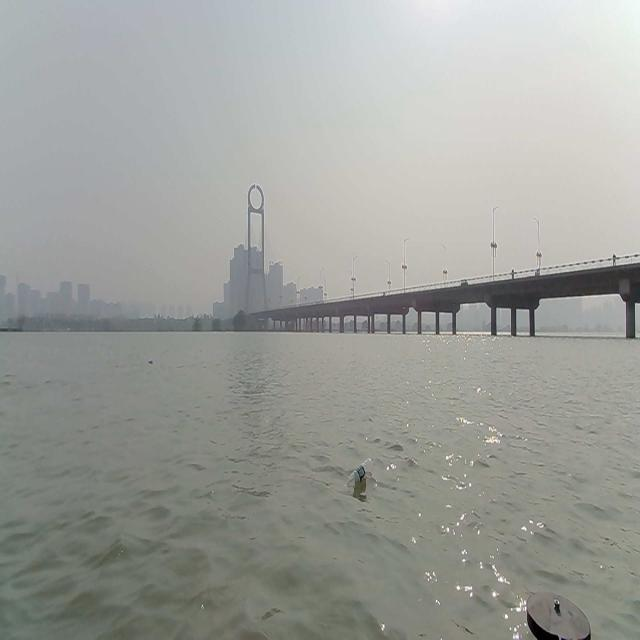bottle: (345, 456, 373, 485), (148, 358, 154, 364)
